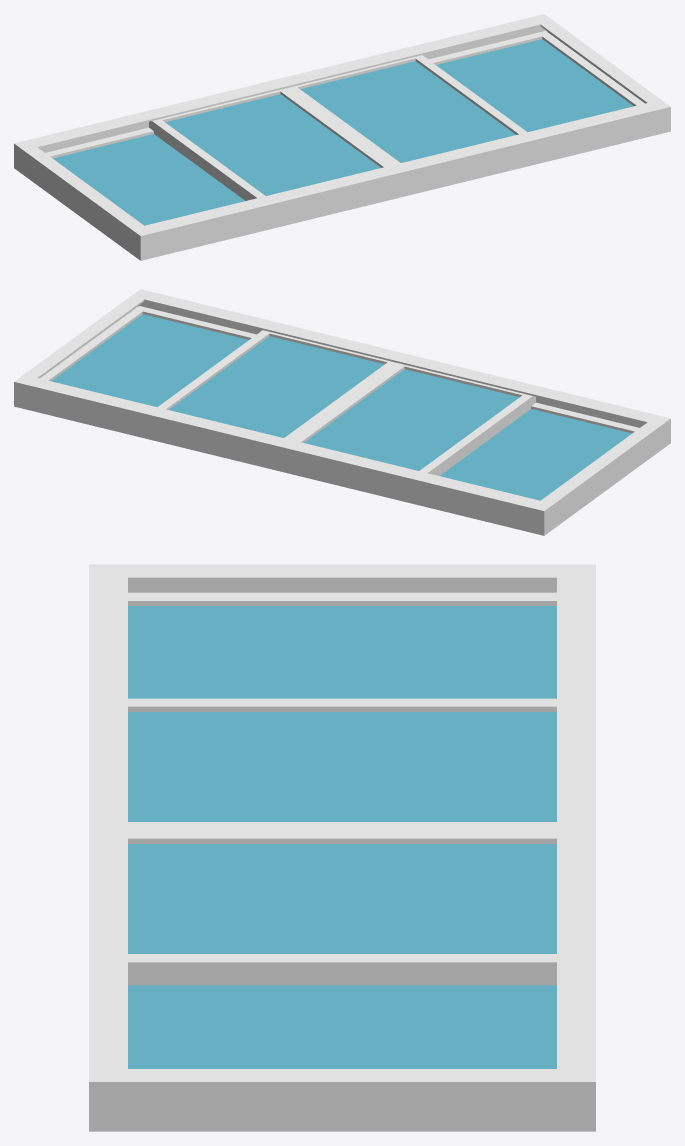
The model's file is 798 Series 4 Panels.fbx.
3 views of the same model, one above another, from view 1: azimuth 30°, elevation 25°; view 2: azimuth 150°, elevation 25°; view 3: azimuth 270°, elevation 25° (orthographic). The views are drawn at different scales.
Visible parts, largest first — view 1: Body1, Body3, Body2, Body6, Body9; view 2: Body1, Body3, Body2, Body6, Body9; view 3: Body1, Body2, Body3, Body9, Body6.
Part boxes in pixels (left/top/right/bottom): Body1: left=14, top=14, right=670, bottom=260; Body3: left=165, top=94, right=380, bottom=195; Body2: left=300, top=61, right=515, bottom=162; Body6: left=436, top=39, right=633, bottom=132; Body9: left=53, top=134, right=244, bottom=225; Body1: left=14, top=289, right=670, bottom=535; Body3: left=304, top=369, right=519, bottom=470; Body2: left=169, top=336, right=384, bottom=437; Body6: left=51, top=314, right=248, bottom=407; Body9: left=440, top=409, right=631, bottom=500; Body1: left=89, top=564, right=595, bottom=1131; Body2: left=128, top=844, right=556, bottom=953; Body3: left=128, top=712, right=556, bottom=821; Body9: left=128, top=606, right=556, bottom=698; Body6: left=128, top=985, right=556, bottom=1068.
Bounding box in the file's own units: 31.41 × 1.4 × 13.
